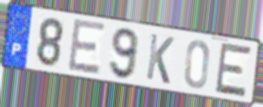0: (182, 38, 211, 91)
8: (35, 16, 65, 69)
9: (108, 26, 140, 82)
E: (66, 17, 107, 77), (213, 41, 254, 99)
K: (144, 32, 176, 87)
